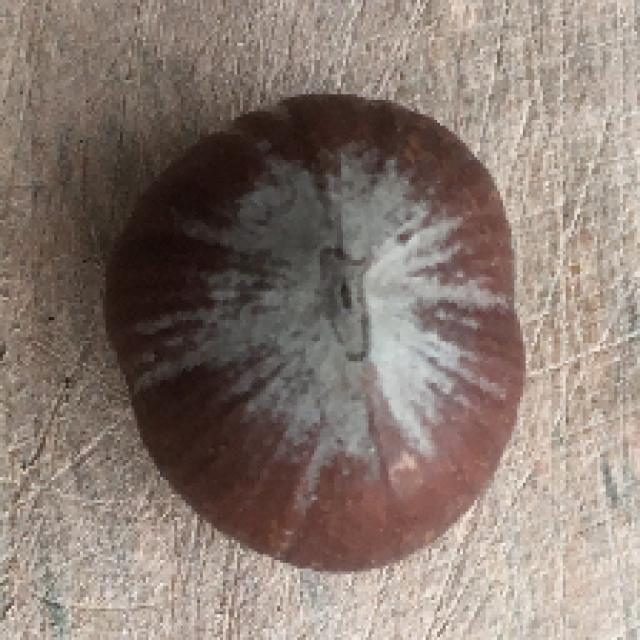damagedHazelnut: (103, 93, 535, 568)
